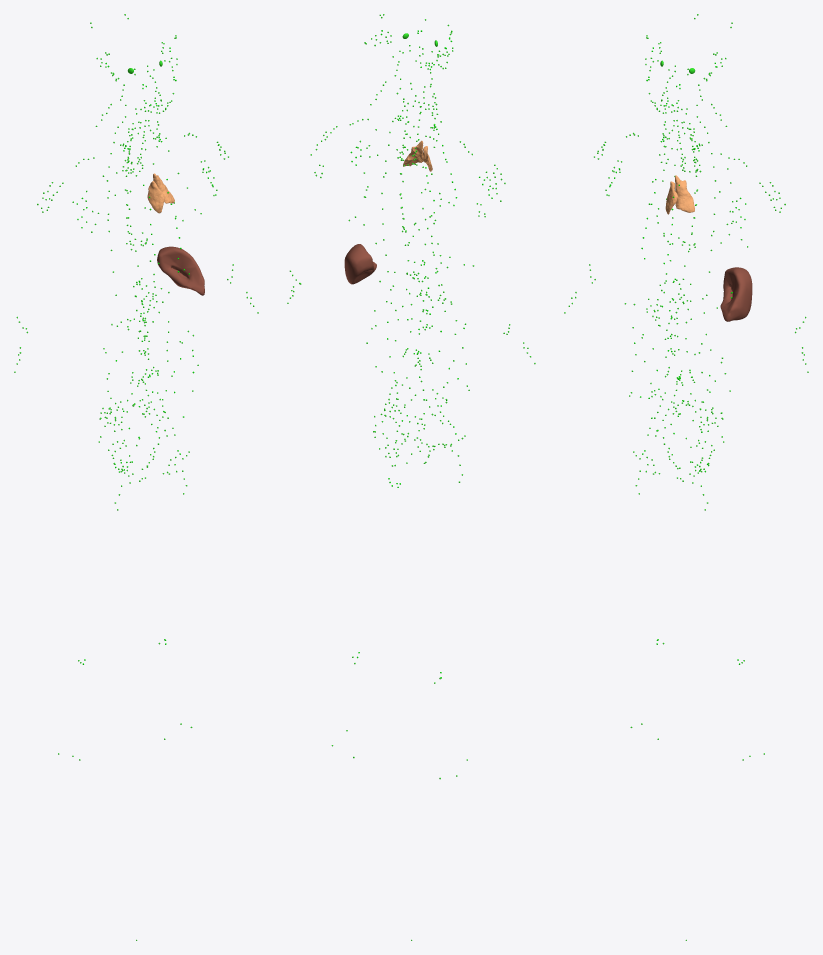
The model's file is lymphoid.glb.
The picture shows the model from 3 angles, left to right: view 1: azimuth 30°, elevation 25°; view 2: azimuth 150°, elevation 25°; view 3: azimuth 330°, elevation 25°; orthographic projection.
Visible parts, largest first — view 1: Spleen; view 2: Spleen; view 3: Spleen.
Boxes of the visible parts, x1=… form: Spleen: x1=157, y1=246, x2=204, y2=295; Spleen: x1=344, y1=244, x2=376, y2=284; Spleen: x1=720, y1=267, x2=752, y2=321.
Size of the model in its own units: 45.23 by 159 by 19.63.
